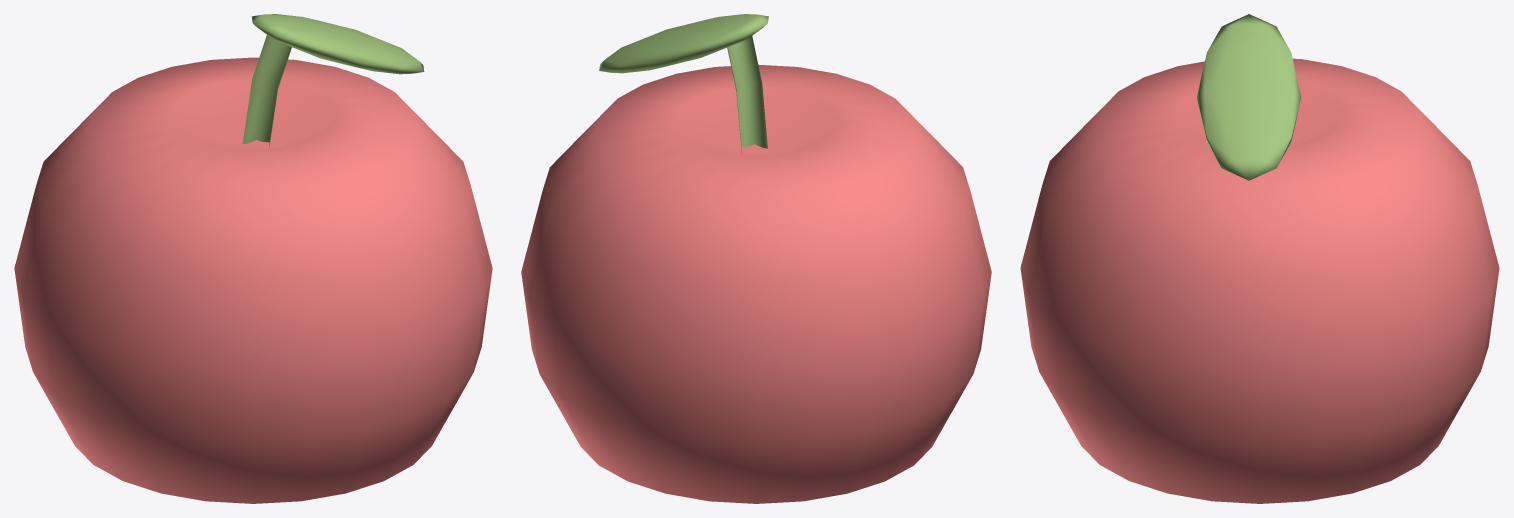
Rendered from Fruit.glb.
The picture shows the model from 3 angles, left to right: view 1: azimuth 30°, elevation 25°; view 2: azimuth 150°, elevation 25°; view 3: azimuth 270°, elevation 25°; orthographic projection.
Parts seen in each view (by area): view 1: Fruit, Stem; view 2: Fruit, Stem; view 3: Fruit, Stem.
Part boxes in pixels (bbox=[...]): Fruit: bbox=[14, 57, 492, 503]; Stem: bbox=[242, 14, 424, 147]; Fruit: bbox=[521, 64, 991, 503]; Stem: bbox=[599, 14, 768, 153]; Fruit: bbox=[1020, 58, 1499, 503]; Stem: bbox=[1197, 14, 1301, 180].
Bounding box in the file's own units: 2.2 × 2.25 × 2.2.
